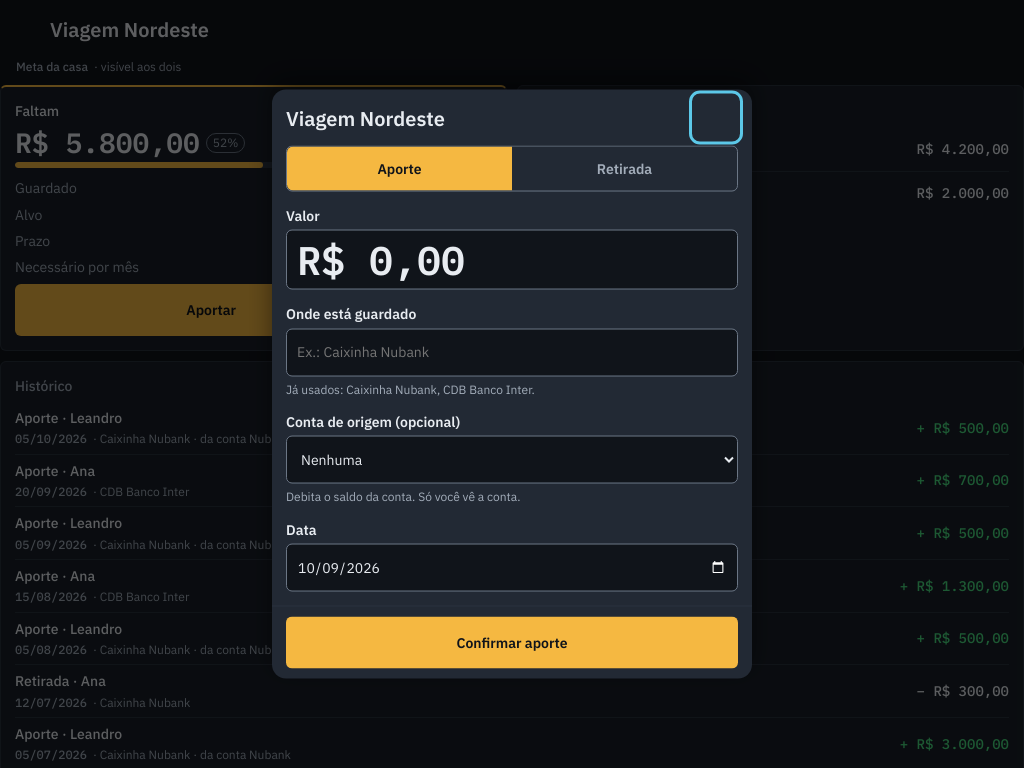
Scenario: T13 abertura e fechamento › o X "Fechar" fecha a folha
Click the button named "Fechar" at (716, 118), box [694,96,738,140]
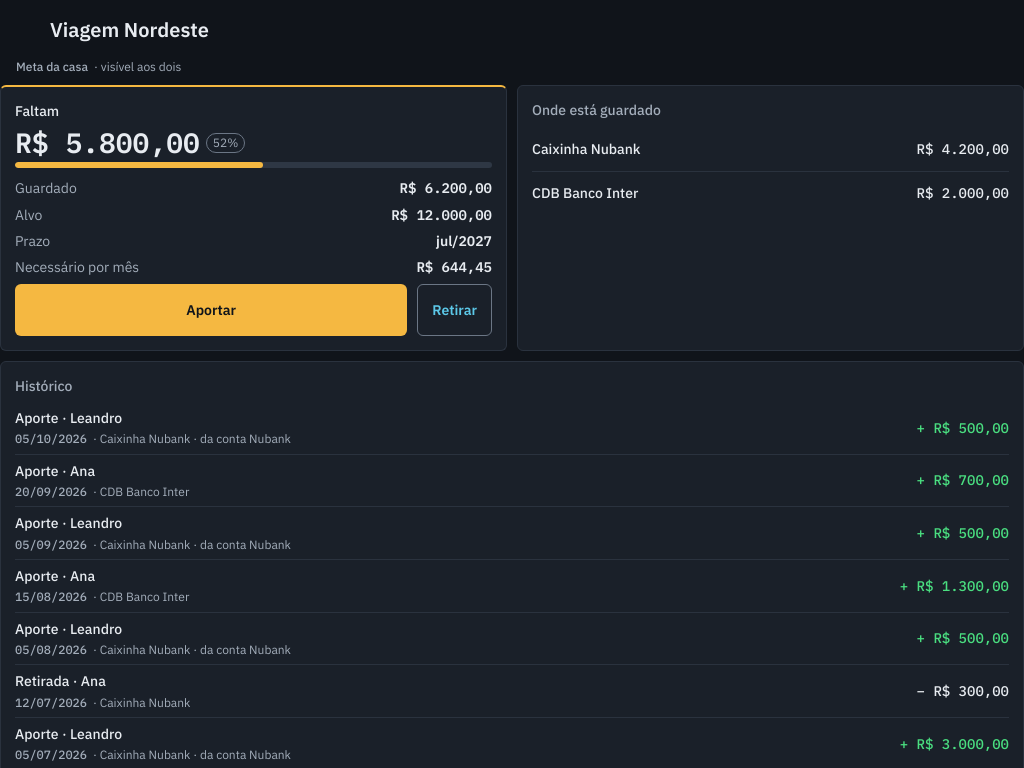
Check: the dialog is gone
